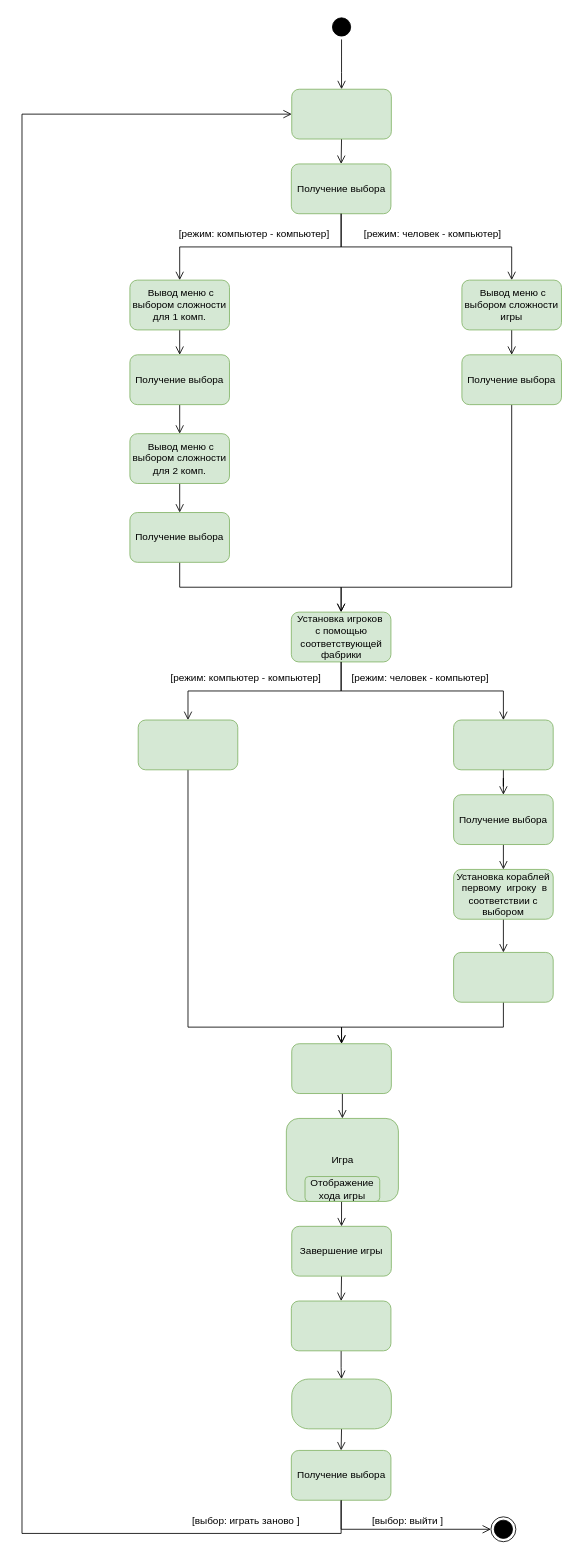
This 576x1556 diagram has some shape labels left out. Each missing label, with the centre of its shape:
"Вывод меню с выбором расстановки кораблей" goes at point (503, 744).
"Вывод меню с выбором режима игры" goes at point (341, 113).
"Вывод сообщения о победителе" goes at point (340, 1325).
"Вывод сообщения с предложением начать игру заново" goes at point (341, 1403).
"Начало игры" goes at point (341, 1068).
"Установка кораблей второму игроку рандомно" goes at point (503, 977).
"Установка кораблей первому и второму игроку рандомно" goes at point (187, 744).
